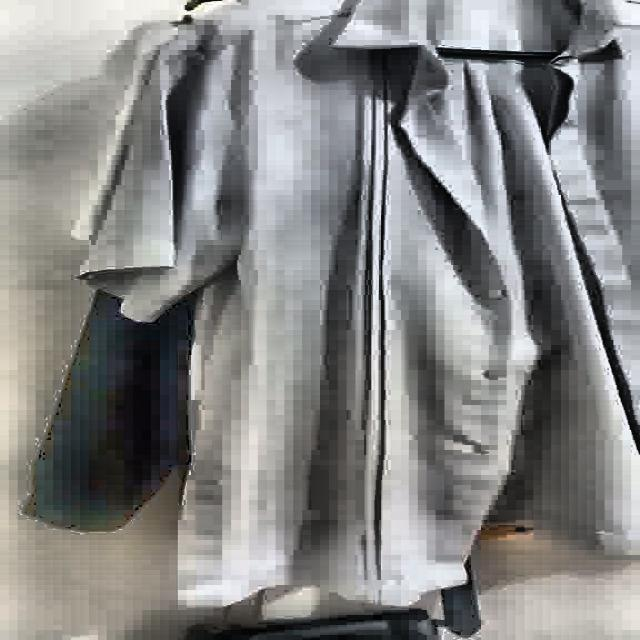clothes: (63, 0, 632, 628)
